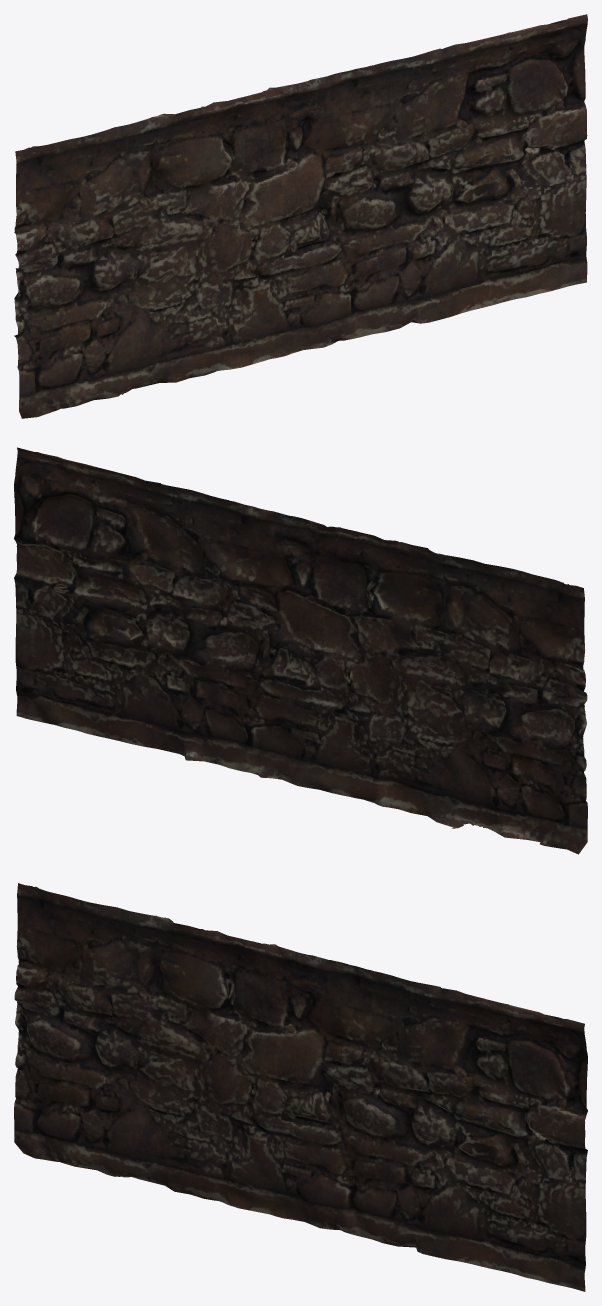
Rendered from W_Room_wall1.fbx.
3 views of the same model, one above another, from view 1: azimuth 30°, elevation 25°; view 2: azimuth 150°, elevation 25°; view 3: azimuth 330°, elevation 25° (orthographic).
Visible parts, largest first — view 1: SM_CellarWallSet_Straight1_LOD0; view 2: SM_CellarWallSet_Straight1_LOD0; view 3: SM_CellarWallSet_Straight1_LOD0.
Boxes of the visible parts, <box> form: SM_CellarWallSet_Straight1_LOD0: <box>14,14,587,418</box>; SM_CellarWallSet_Straight1_LOD0: <box>14,447,587,854</box>; SM_CellarWallSet_Straight1_LOD0: <box>14,883,587,1291</box>.
Size of the model in its own units: 460 by 207 by 14.43.
